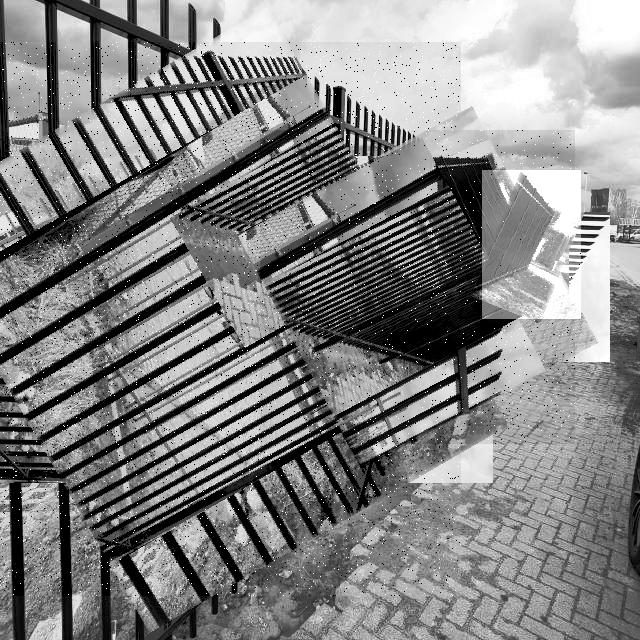fences: (0, 42, 461, 596), (260, 130, 575, 444), (482, 170, 581, 319)
